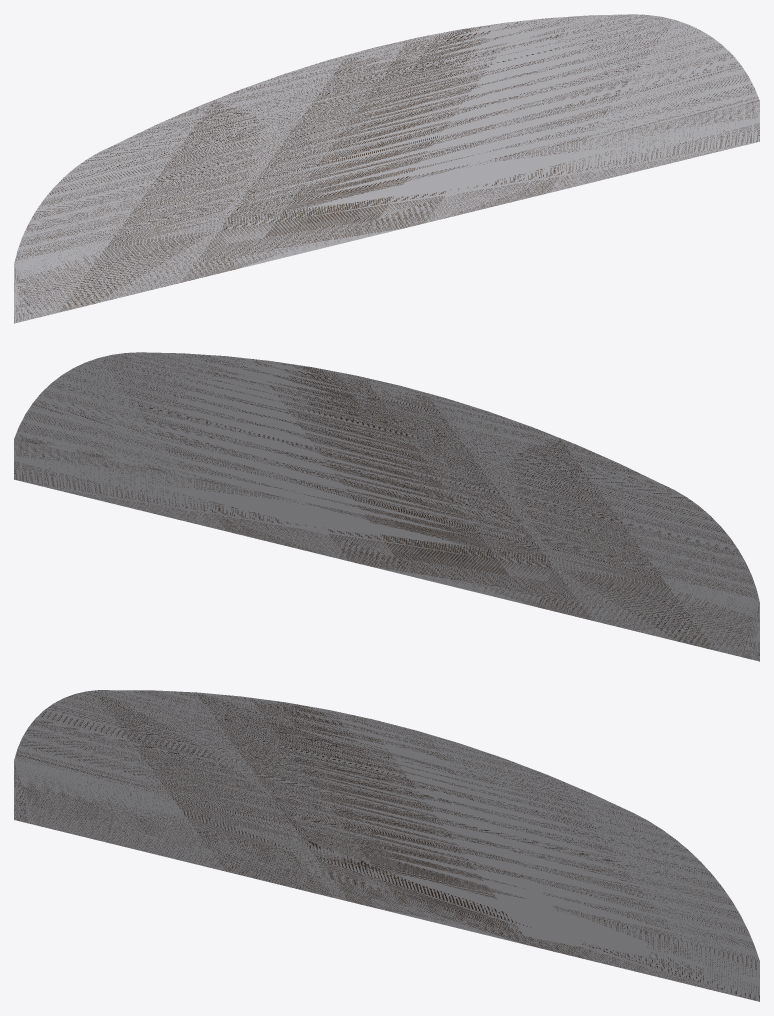
The model's file is original-142.obj.
3 views of the same model, one above another, from view 1: azimuth 30°, elevation 25°; view 2: azimuth 150°, elevation 25°; view 3: azimuth 330°, elevation 25° (orthographic).
Parts seen in each view (by area): view 1: mesh46/mesh46-geometry/material_6/component_1#mesh46-geometry; view 2: mesh46/mesh46-geometry/material_6/component_1#mesh46-geometry; view 3: mesh46/mesh46-geometry/material_6/component_1#mesh46-geometry.
Part boxes in pixels (x1=…): mesh46/mesh46-geometry/material_6/component_1#mesh46-geometry: x1=14, y1=14, x2=759, y2=323; mesh46/mesh46-geometry/material_6/component_1#mesh46-geometry: x1=14, y1=352, x2=759, y2=661; mesh46/mesh46-geometry/material_6/component_1#mesh46-geometry: x1=14, y1=690, x2=759, y2=1001.
Bounding box in the file's own units: 0.4745 × 0.1143 × 0.
